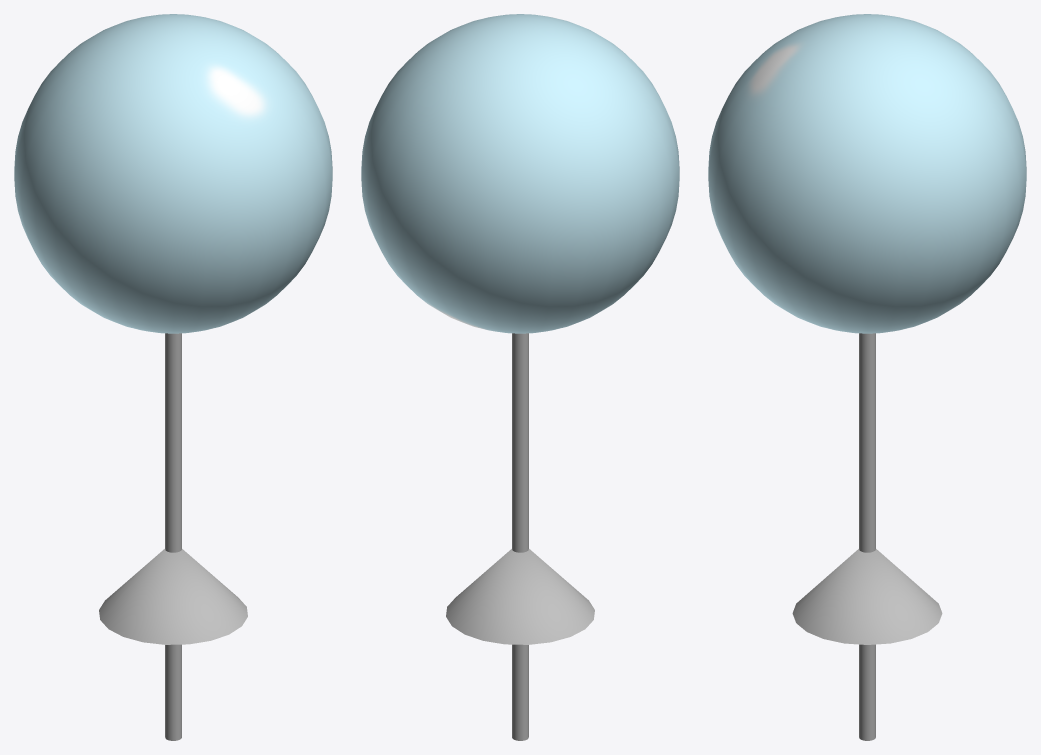
The model's file is GoalMini.fbx.
3 renders of one model, left to right at view 1: azimuth 30°, elevation 25°; view 2: azimuth 150°, elevation 25°; view 3: azimuth 270°, elevation 25°, orthographic.
Visible parts, largest first — view 1: pSphere8; view 2: pSphere8; view 3: pSphere8.
Boxes of the visible parts, x1,y1,x2,y2 form: pSphere8: [14, 14, 332, 740]; pSphere8: [361, 14, 679, 740]; pSphere8: [708, 14, 1026, 740].
Bounding box in the file's own units: 2.4 × 5.87 × 2.39.
2 materials, 1 textured.
